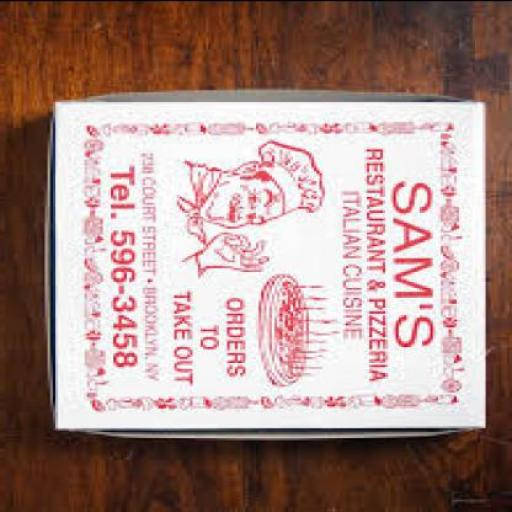cardboard: (51, 85, 491, 439)
